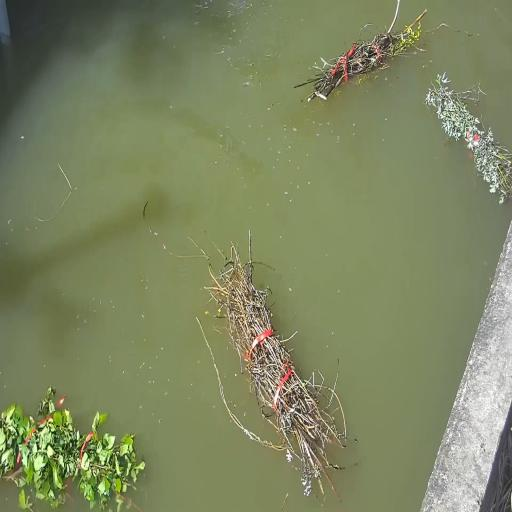twig: (208, 246, 346, 495), (0, 386, 145, 508), (425, 73, 512, 203)
